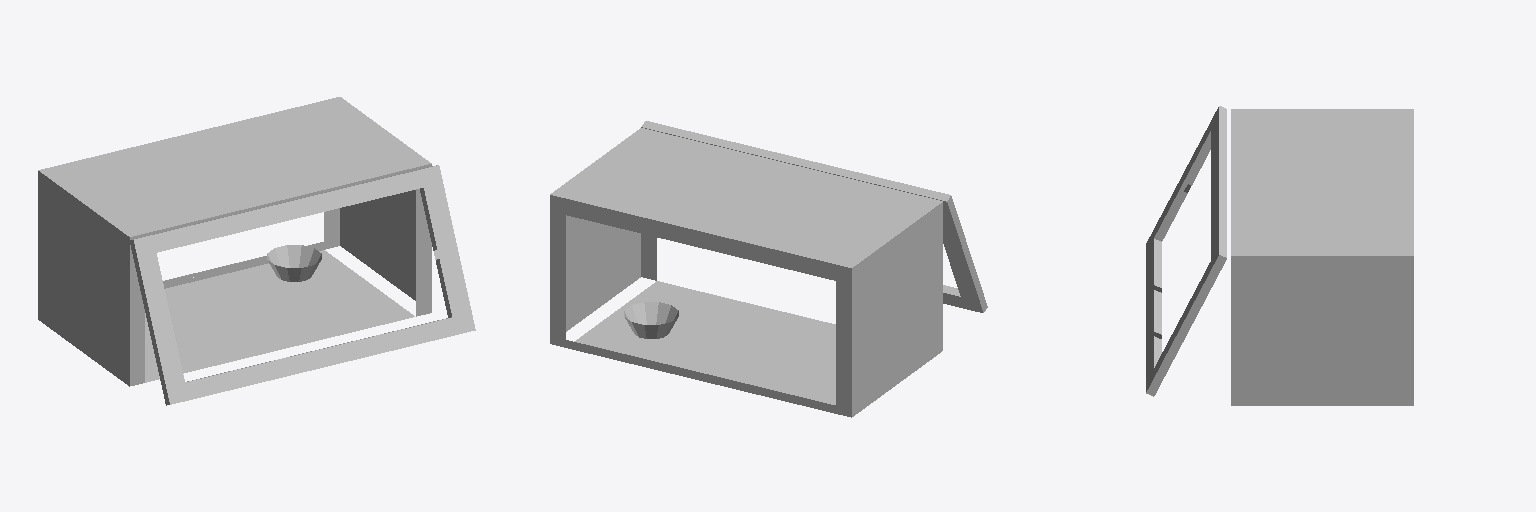
File: housesp_089.obj
The picture shows the model from 3 angles: view 1: azimuth 30°, elevation 25°; view 2: azimuth 150°, elevation 25°; view 3: azimuth 270°, elevation 25°; orthographic projection.
Bounding box in the file's own units: 90 × 42.7 × 68.3.